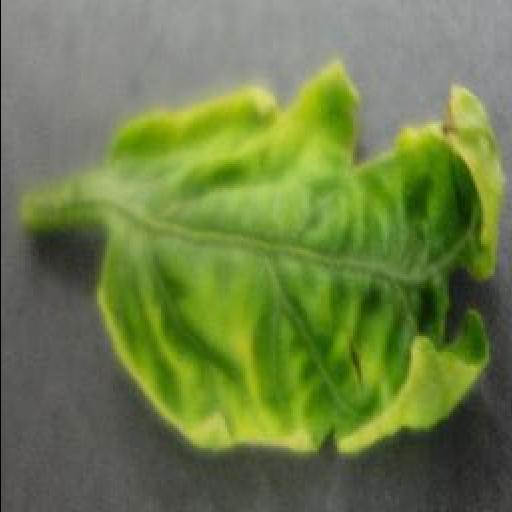disease_tomato: (90, 62, 506, 454)
